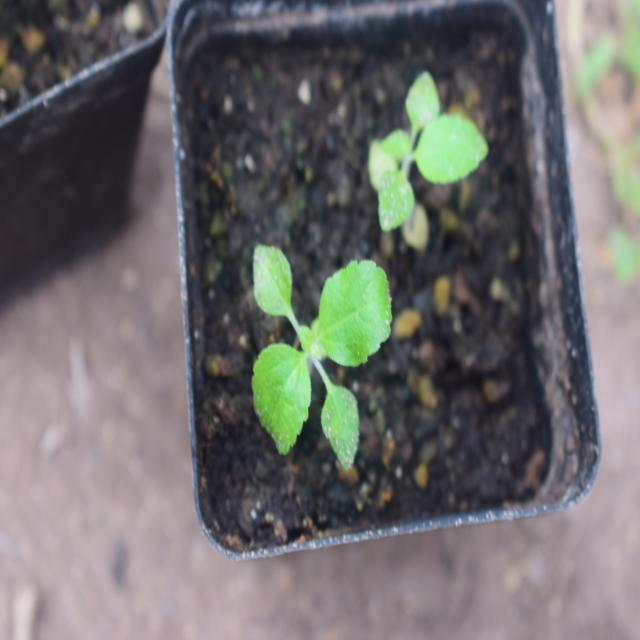billygoat_weed: (231, 200, 393, 462)
